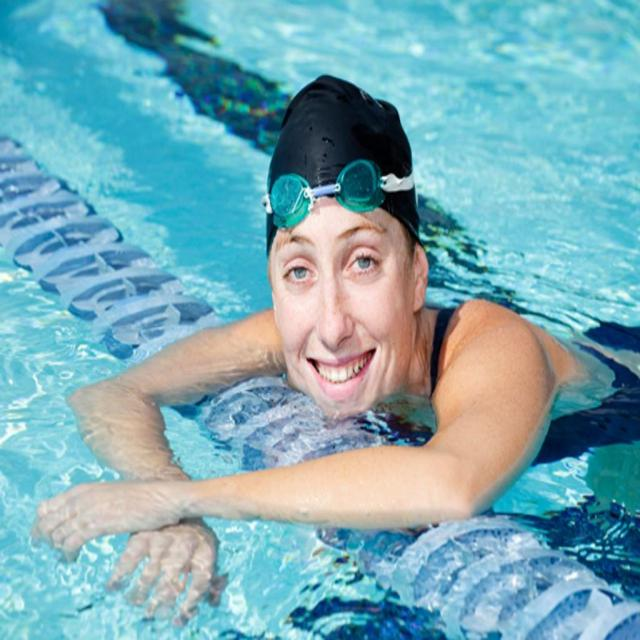nomask: (273, 201, 402, 421)
